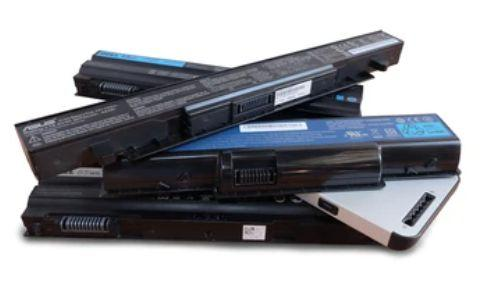battery: (14, 27, 408, 179), (102, 111, 464, 180), (69, 46, 366, 123), (18, 183, 414, 239)
